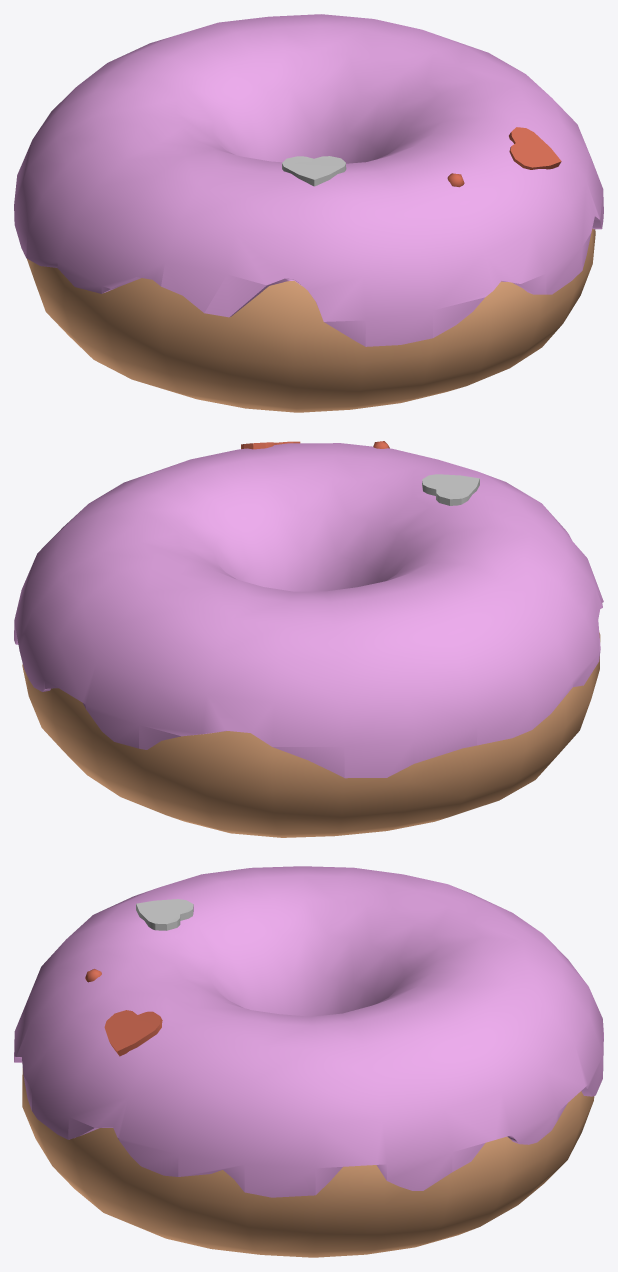
The model's file is Donut.fbx.
3 renders of one model, top to bottom at view 1: azimuth 30°, elevation 25°; view 2: azimuth 150°, elevation 25°; view 3: azimuth 270°, elevation 25°, orthographic.
Visible parts, largest first — view 1: cream1, donut, heart3, heart2; view 2: cream1, donut, heart2; view 3: cream1, donut, heart3, heart2.
Part boxes in pixels (x1,y1,x2,y2): cream1: (14,14,603,346); donut: (27,228,595,412); heart3: (509,127,561,169); heart2: (282,156,346,186); cream1: (14,443,603,778); donut: (22,632,600,837); heart2: (422,474,479,505); cream1: (14,866,603,1197); donut: (22,1068,594,1257); heart3: (104,1010,162,1056); heart2: (136,899,193,930).
Bounding box in the file's own units: 72.95 × 31.38 × 72.68.
